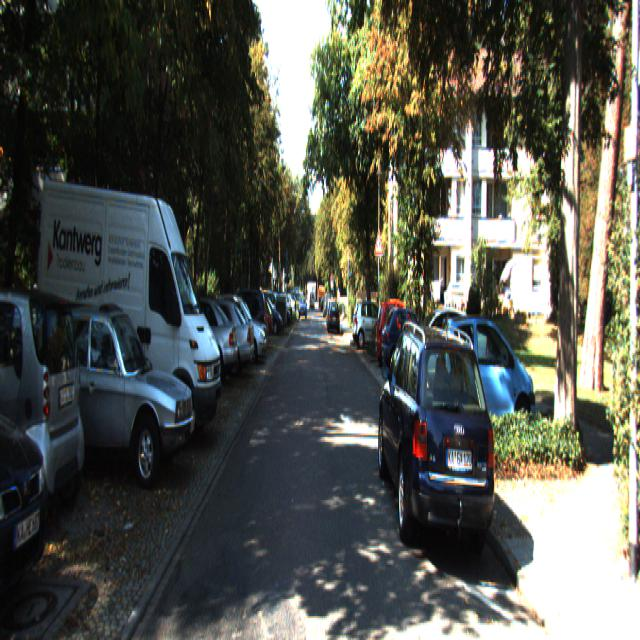Car: (36, 164, 224, 456), (12, 300, 198, 495), (377, 318, 497, 566), (0, 276, 86, 538), (434, 309, 538, 442), (392, 304, 492, 410), (157, 293, 240, 390), (211, 297, 267, 365), (375, 295, 426, 365), (353, 300, 393, 350), (247, 290, 283, 335), (326, 299, 340, 332)
